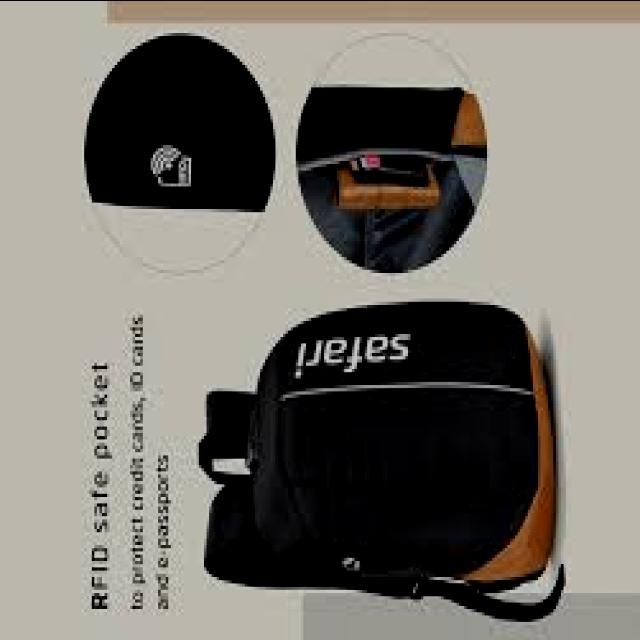backpack: (198, 302, 565, 625)
